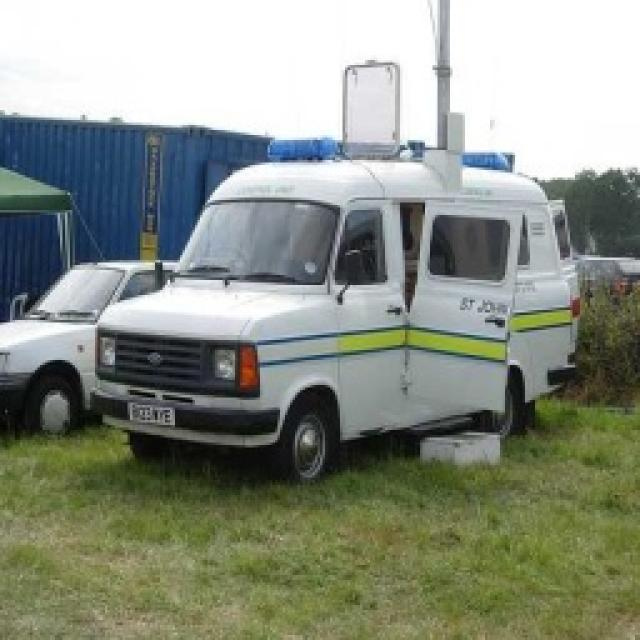ambulance: (95, 140, 590, 480), (0, 165, 118, 433)
